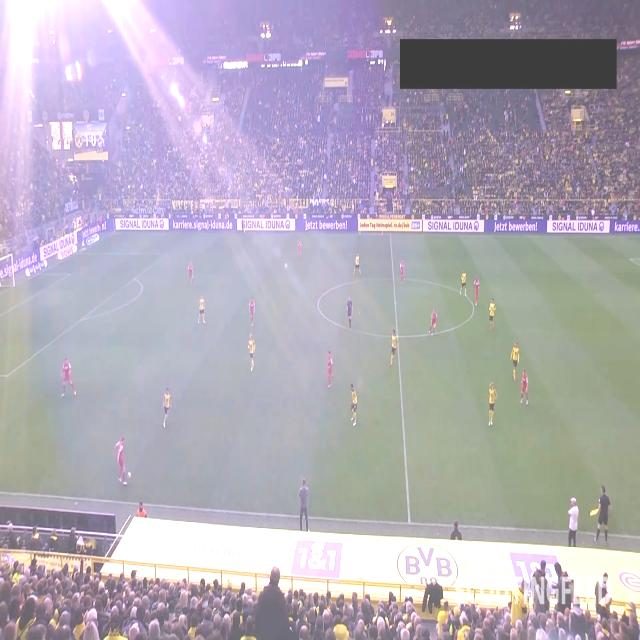ball: (126, 469, 132, 481)
f_player: (59, 356, 78, 400), (114, 435, 128, 489), (486, 380, 498, 428), (161, 385, 173, 431), (508, 338, 520, 384), (518, 367, 530, 408), (348, 381, 358, 429), (246, 331, 257, 373), (326, 348, 336, 390), (389, 327, 399, 368), (488, 296, 498, 334), (428, 305, 438, 338), (196, 292, 206, 325), (458, 268, 468, 300), (351, 250, 363, 276), (472, 274, 481, 308), (248, 294, 256, 328), (398, 255, 406, 287), (187, 258, 195, 288), (296, 236, 303, 263)
umpire: (346, 294, 354, 332)
